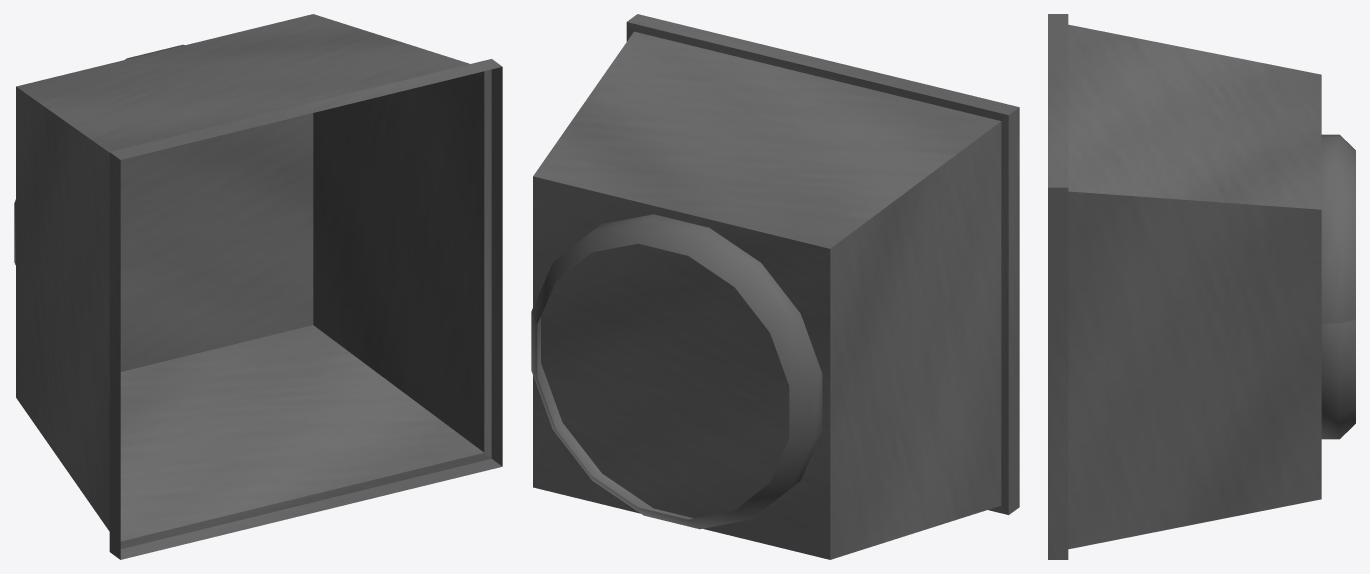
File: polebase_large_pedestal.obj
3 renders of one model, left to right at view 1: azimuth 30°, elevation 25°; view 2: azimuth 150°, elevation 25°; view 3: azimuth 270°, elevation 25°, orthographic. The views are drawn at different scales.
Parts seen in each view (by area): view 1: polebase_large_pedestal; view 2: polebase_large_pedestal; view 3: polebase_large_pedestal.
Boxes of the visible parts, x1,y1,x2,y2 form: polebase_large_pedestal: (14,14,502,559); polebase_large_pedestal: (531,14,1019,559); polebase_large_pedestal: (1048,14,1355,559).
Size of the model in its own units: 1.12 by 1.12 by 0.8431.
